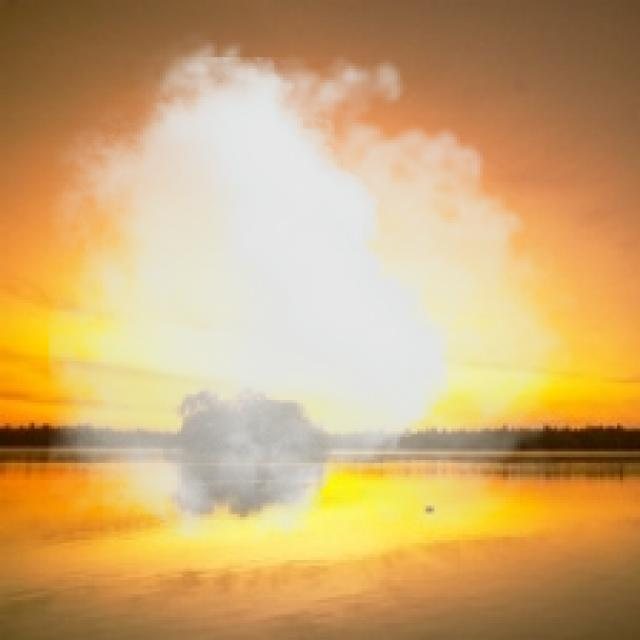Smoke: (49, 26, 592, 543)
